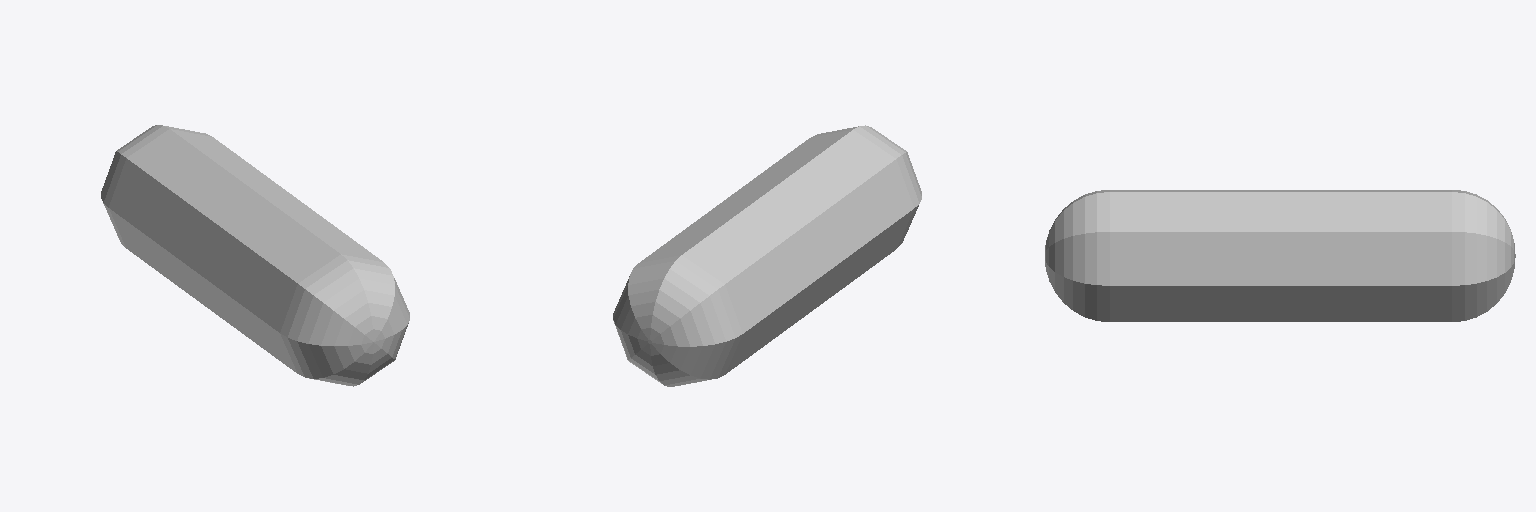
File: orb_of_rainbow_ray_of_rainbow.obj
3 renders of one model, left to right at view 1: azimuth 30°, elevation 25°; view 2: azimuth 150°, elevation 25°; view 3: azimuth 270°, elevation 25°, orthographic.
Visible parts, largest first — view 1: Cylinder_Cylinder.002; view 2: Cylinder_Cylinder.002; view 3: Cylinder_Cylinder.002.
Part boxes in pixels (bbox=[...]): Cylinder_Cylinder.002: bbox=[101, 125, 409, 386]; Cylinder_Cylinder.002: bbox=[613, 125, 921, 386]; Cylinder_Cylinder.002: bbox=[1045, 190, 1515, 321].
Size of the model in its own units: 0.6 by 0.6 by 2.